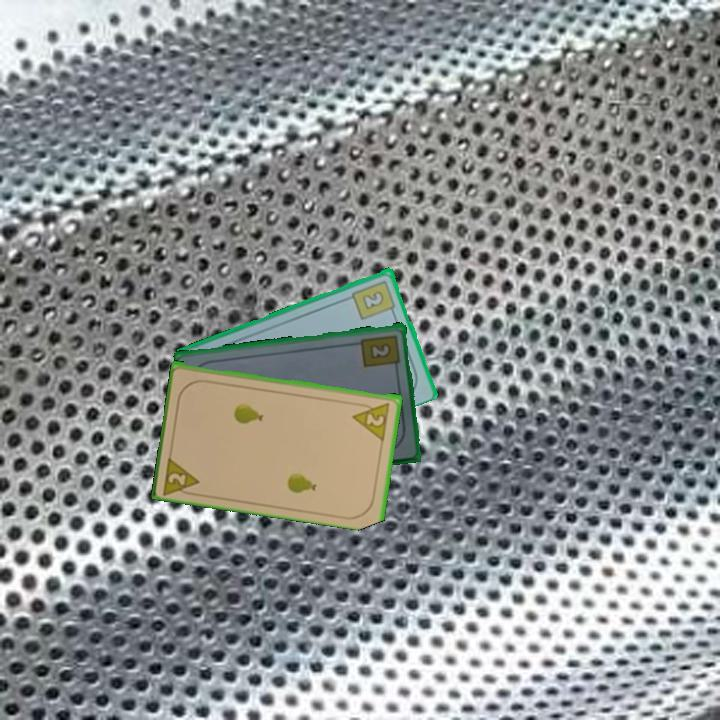2b: (349, 276, 398, 322), (358, 331, 403, 372)
2p: (160, 451, 203, 498), (350, 399, 393, 442)
